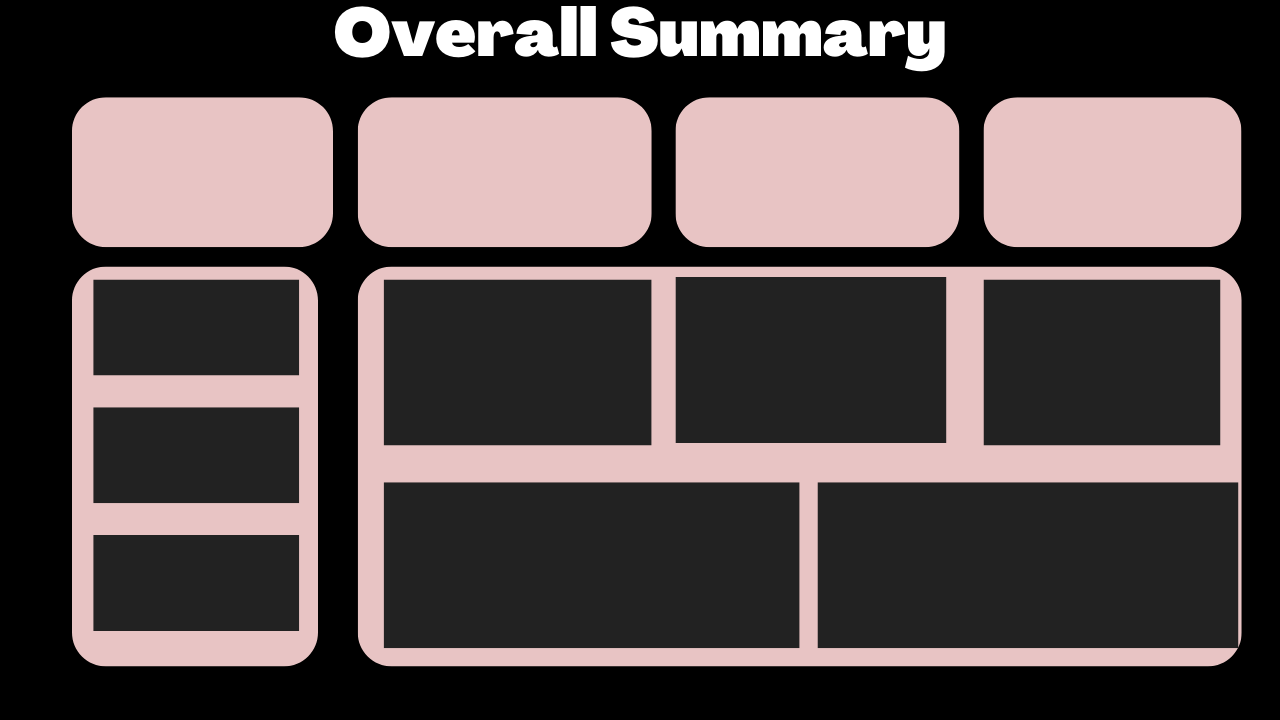

The dashboard page shown, as its layout file describes it:
{"tool":"powerbi","page":{"name":"Overall Summary","canvas":[1280,720],"ordinal":3},"visuals":[{"type":"card","fields":{"Values":["CountNonNull(Telco-churn.customerID)"]},"box":[92.9,101.3,217.1,132.7],"z":0},{"type":"card","fields":{"Values":["Avg(Telco-churn.MonthlyCharges)"]},"box":[360.6,78.4,291.9,178.5],"z":1000},{"type":"card","fields":{"Values":["Avg(Telco-churn.TotalCharges)"]},"box":[697.1,73.6,231.6,188.1],"z":2000},{"type":"card","fields":{"Values":["Avg(Telco-churn.tenure)"]},"box":[1004.6,101.3,217.1,132.7],"z":3000},{"type":"slicer","fields":{"Values":["Telco-churn.gender"]},"box":[185.7,283.4,112.2,109.7],"z":4000},{"type":"slicer","fields":{"Values":["Telco-churn.PaymentMethod"]},"box":[177.3,402.8,120.6,109.7],"z":5000},{"type":"slicer","fields":{"Values":["Telco-churn.Contract"]},"box":[177.3,531.9,132.7,103.7],"z":6000},{"type":"lineChart","fields":{"Y":["CountNonNull(Telco-churn.customerID)"],"Category":["Telco-churn.tenure"],"Series":["Telco-churn.Churn"]},"box":[384.7,478.8,412.5,167.6],"z":7000},{"type":"columnChart","fields":{"Category":["Telco-churn.Churn"],"Y":["CountNonNull(Telco-churn.gender)"],"Series":["Telco-churn.gender"]},"box":[676.6,261.7,272.6,179.7],"z":8000},{"type":"pieChart","fields":{"Category":["Telco-churn.gender"],"Y":["CountNonNull(Telco-churn.gender)"]},"box":[384.7,248.4,281,207.4],"z":9000},{"type":"lineChart","fields":{"Y":["CountNonNull(Telco-churn.customerID)"],"Series":["Telco-churn.Churn"],"Category":["Telco-churn.MonthlyCharges"]},"box":[822.5,478.8,411.3,167.6],"z":10000},{"type":"image","box":[980.5,256.9,241.2,201.4],"z":11000},{"type":"actionButton","box":[0,4.8,92.9,86.8],"z":11001}]}

Visuals, with their boxes in screenshot pixels (x1, y1, x2, y2), scaled from the page's 1280x720 canvas onto the 1280x720 screenshot:
card - CountNonNull(Telco-churn.customerID): locate(93, 101, 310, 234)
card - Avg(Telco-churn.MonthlyCharges): locate(361, 78, 652, 257)
card - Avg(Telco-churn.TotalCharges): locate(697, 74, 929, 262)
card - Avg(Telco-churn.tenure): locate(1005, 101, 1222, 234)
slicer - Telco-churn.gender: locate(186, 283, 298, 393)
slicer - Telco-churn.PaymentMethod: locate(177, 403, 298, 512)
slicer - Telco-churn.Contract: locate(177, 532, 310, 636)
lineChart - CountNonNull(Telco-churn.customerID) x Telco-churn.tenure: locate(385, 479, 797, 646)
columnChart - Telco-churn.Churn x CountNonNull(Telco-churn.gender): locate(677, 262, 949, 441)
pieChart - Telco-churn.gender x CountNonNull(Telco-churn.gender): locate(385, 248, 666, 456)
lineChart - CountNonNull(Telco-churn.customerID) x Telco-churn.Churn: locate(822, 479, 1234, 646)
image: locate(980, 257, 1222, 458)
actionButton: locate(0, 5, 93, 92)
